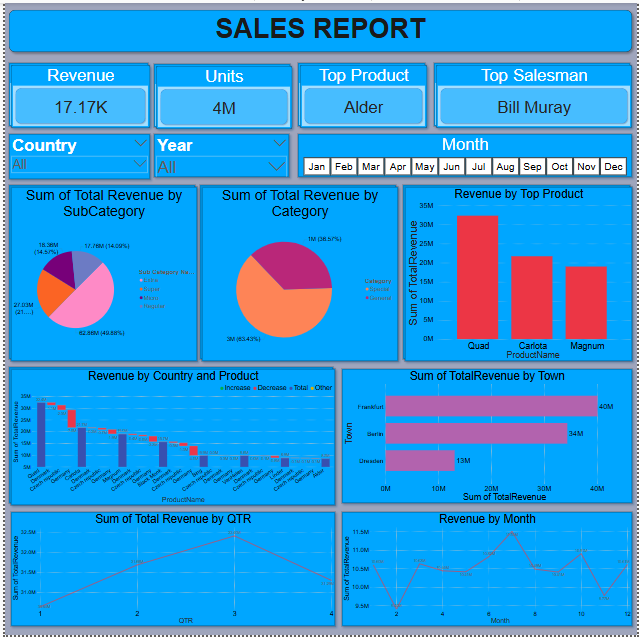

This screenshot's page, from the dashboard's own definition file:
{"tool":"powerbi","page":{"name":"Page 1","canvas":[3000,3000],"ordinal":0},"visuals":[{"type":"textbox","box":[19,33.2,2957.3,199.4],"z":0},{"type":"cardVisual","title":"Revenue","fields":{"Data":["Sum(Sales.RevenueDiscount)"]},"box":[19,284.8,659.8,299.1],"z":1000},{"type":"cardVisual","title":"Top Product","fields":{"Data":["Min(Product.ProductName)"]},"box":[1390.8,284.8,602.8,299.1],"z":2000},{"type":"cardVisual","title":"Top Salesman","fields":{"Data":["Min(Sales rep.Sales Rep Name)"]},"box":[2036.4,284.8,930.4,299.1],"z":3000},{"type":"slicer","fields":{"Values":["Geography.Country"]},"box":[19,621.8,669.3,213.6],"z":4000},{"type":"slicer","fields":{"Values":["MasterDate.Year"]},"box":[707.3,621.8,640.8,204.1],"z":5000},{"type":"slicer","title":"Month","fields":{"Values":["MasterDate.MonthName"]},"box":[1390.8,621.8,1585.4,204.1],"z":6000},{"type":"pieChart","title":"Sum of Total Revenue by SubCategory","fields":{"Category":["Sub categories.SubCategory Name"],"Y":["Sum(Sales.TotalRevenue)"]},"box":[19,863.9,882.9,825.9],"z":7000},{"type":"pieChart","title":"Sum of Total Revenue by Category ","fields":{"Category":["Categories.Category"],"Y":["Sum(Sales.Units)"]},"box":[925.6,863.9,930.4,825.9],"z":8000},{"type":"columnChart","title":"Revenue by Top Product","fields":{"Category":["Product.ProductName"],"Y":["Sum(Sales.TotalRevenue)"]},"box":[1889.2,863.9,1077.5,825.9],"z":9000},{"type":"waterfallChart","title":"Revenue by Country and Product","fields":{"Category":["Product.ProductName"],"Y":["Sum(Sales.TotalRevenue)"],"Breakdown":["Geography.Country"]},"box":[19,1727.8,1538,645.6],"z":10000},{"type":"barChart","fields":{"Category":["Geography.Town"],"Y":["Sum(Sales.TotalRevenue)"]},"box":[1052.2,3117.1,593.4,482.6],"z":11000},{"type":"lineChart","title":"Sum of Total Revenue by QTR","fields":{"Category":["MasterDate.QTR"],"Y":["Sum(Sales.TotalRevenue)"]},"box":[316.5,4090.2,783.2,490.5],"z":12000},{"type":"lineChart","title":"Revenue by Month","fields":{"Category":["MasterDate.Month"],"Y":["Sum(Sales.TotalRevenue)"]},"box":[4351.3,4509.5,648.7,490.5],"z":13000},{"type":"cardVisual","title":"Units","fields":{"Data":["Sum(Sales.Units)"]},"box":[707.3,289.6,645.6,299.1],"z":14000},{"type":"cardVisual","title":"Revenue","fields":{"Data":["Sum(Sales.RevenueDiscount)"]},"box":[30.6,294,659.8,299.1],"z":15000},{"type":"cardVisual","title":"Top Product","fields":{"Data":["Min(Product.ProductName)"]},"box":[1402.4,294,602.8,299.1],"z":16000},{"type":"cardVisual","title":"Top Salesman","fields":{"Data":["Min(Sales rep.Sales Rep Name)"]},"box":[2048,294,930.4,299.1],"z":17000},{"type":"pieChart","title":"Sum of Total Revenue by SubCategory","fields":{"Category":["Sub categories.SubCategory Name"],"Y":["Sum(Sales.TotalRevenue)"]},"box":[30.6,873.1,882.9,825.9],"z":18000},{"type":"pieChart","title":"Sum of Total Revenue by Category ","fields":{"Category":["Categories.Category"],"Y":["Sum(Sales.Units)"]},"box":[937.2,873.1,930.4,825.9],"z":19000},{"type":"columnChart","title":"Revenue by Top Product","fields":{"Category":["Product.ProductName"],"Y":["Sum(Sales.TotalRevenue)"]},"box":[1900.8,873.1,1077.5,825.9],"z":20000},{"type":"waterfallChart","title":"Revenue by Country and Product","fields":{"Category":["Product.ProductName"],"Y":["Sum(Sales.TotalRevenue)"],"Breakdown":["Geography.Country"]},"box":[30.6,1737,1538,645.6],"z":21000},{"type":"barChart","fields":{"Category":["Geography.Town"],"Y":["Sum(Sales.TotalRevenue)"]},"box":[1599.7,1737.3,1376.6,636.1],"z":22000},{"type":"lineChart","title":"Sum of Total Revenue by QTR","fields":{"Category":["MasterDate.QTR"],"Y":["Sum(Sales.TotalRevenue)"]},"box":[28.5,2416.1,1538,541.1],"z":23000},{"type":"lineChart","title":"Revenue by Month","fields":{"Category":["MasterDate.Month"],"Y":["Sum(Sales.TotalRevenue)"]},"box":[1599.7,2416.1,1376.6,541.1],"z":24000},{"type":"cardVisual","title":"Units","fields":{"Data":["Sum(Sales.Units)"]},"box":[718.9,298.7,645.6,299.1],"z":25000}]}

Visuals, with their boxes in screenshot pixels (x1, y1, x2, y2), scaled from the page's 3000x3000 canvas onto the 639x637 screenshot:
textbox: <box>4,7,634,49</box>
"Revenue" cardVisual: <box>4,60,145,124</box>
"Top Product" cardVisual: <box>296,60,425,124</box>
"Top Salesman" cardVisual: <box>434,60,632,124</box>
slicer - Geography.Country: <box>4,132,147,177</box>
slicer - MasterDate.Year: <box>151,132,287,175</box>
"Month" slicer: <box>296,132,634,175</box>
"Sum of Total Revenue by SubCategory" pieChart: <box>4,183,192,359</box>
"Sum of Total Revenue by Category " pieChart: <box>197,183,395,359</box>
"Revenue by Top Product" columnChart: <box>402,183,632,359</box>
"Revenue by Country and Product" waterfallChart: <box>4,367,332,504</box>
"Units" cardVisual: <box>151,61,288,125</box>
"Revenue" cardVisual: <box>7,62,147,126</box>
"Top Product" cardVisual: <box>299,62,427,126</box>
"Top Salesman" cardVisual: <box>436,62,634,126</box>
"Sum of Total Revenue by SubCategory" pieChart: <box>7,185,195,361</box>
"Sum of Total Revenue by Category " pieChart: <box>200,185,398,361</box>
"Revenue by Top Product" columnChart: <box>405,185,634,361</box>
"Revenue by Country and Product" waterfallChart: <box>7,369,334,506</box>
barChart - Geography.Town x Sum(Sales.TotalRevenue): <box>341,369,634,504</box>
"Sum of Total Revenue by QTR" lineChart: <box>6,513,334,628</box>
"Revenue by Month" lineChart: <box>341,513,634,628</box>
"Units" cardVisual: <box>153,63,291,127</box>
